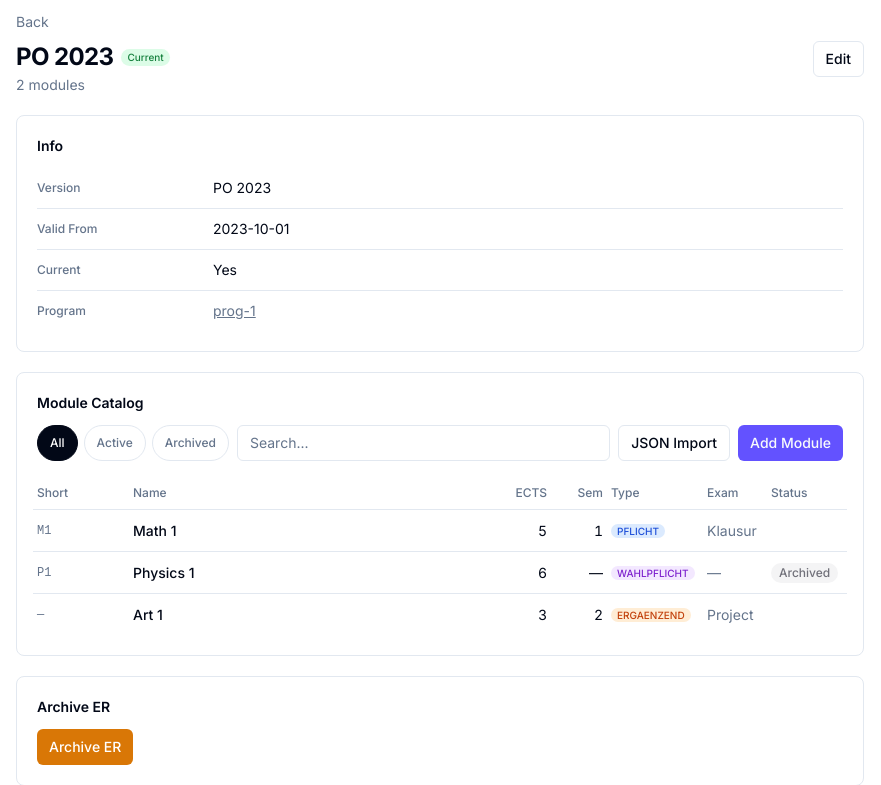
Test: AdminExamRegDetailPage › filters modules by status and search
The width and height of the screenshot is (881, 785).
Click the button "Active": click(115, 443) [84,425,146,461]
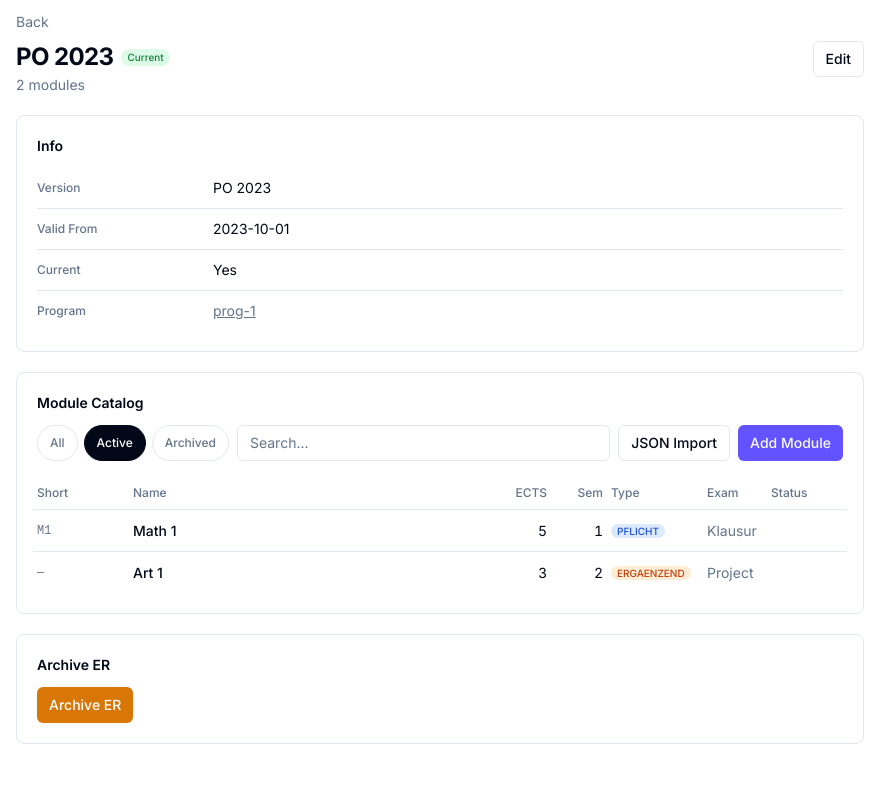
Expected: the text "Math 1" is shown, [129,510,495,552]
Result: the text "Physics 1" is gone
Click the button "Archived": click(190, 443) [152,425,229,461]
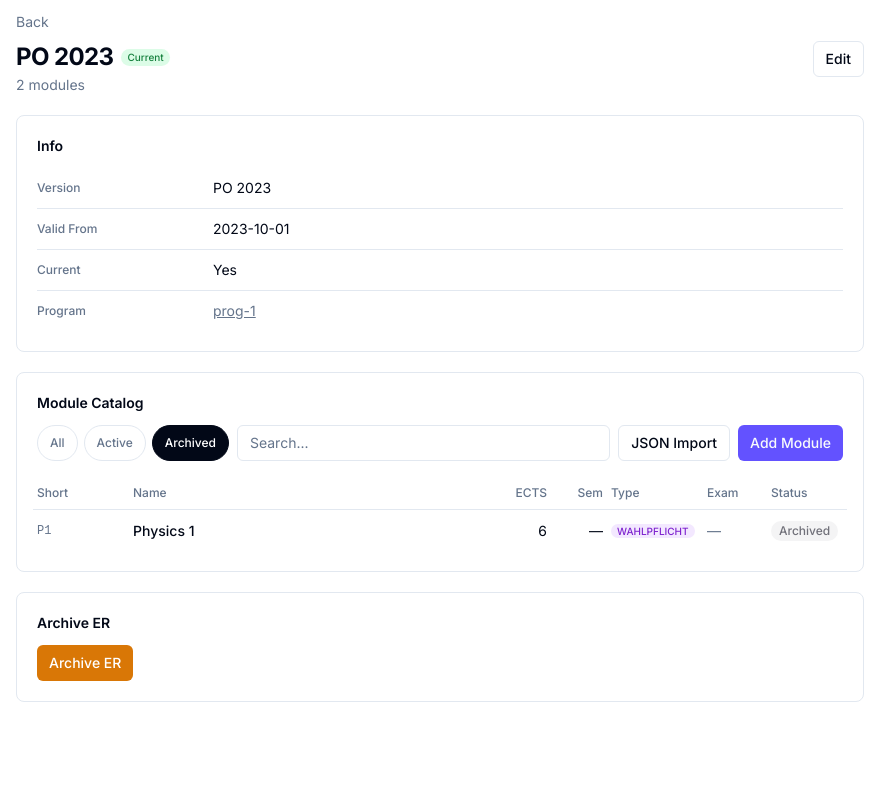
Result: the text "Math 1" is gone
Result: the text "Physics 1" is shown at [129,510,495,551]
Note: All & Search
Click the button "All": click(57, 443) [37,425,78,461]
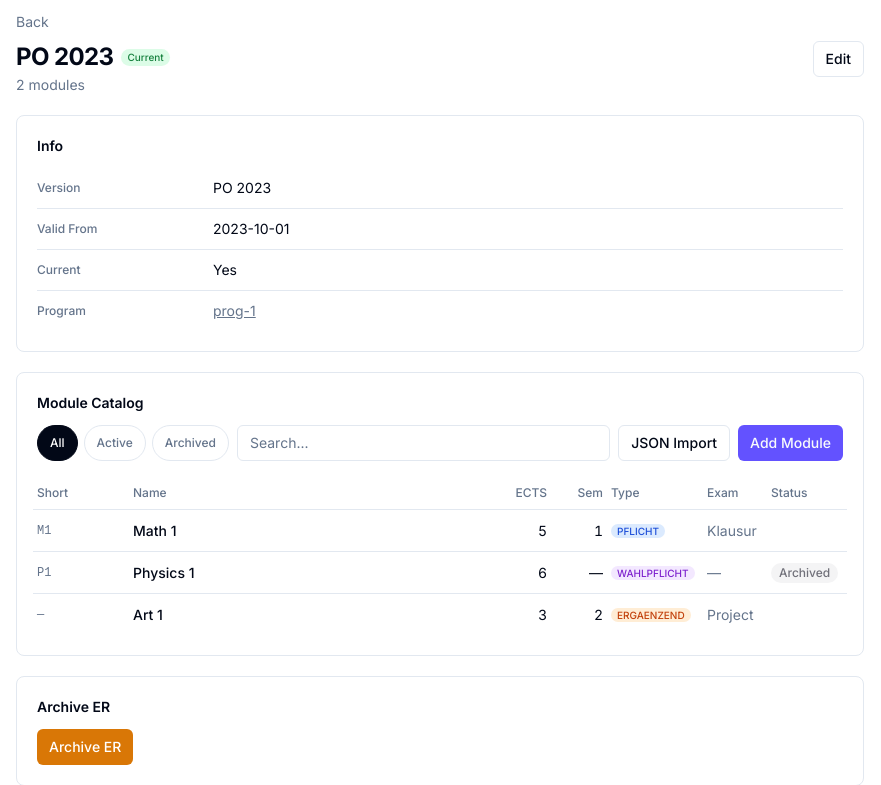
In the field with placeholder "Search...": (424, 443) [237,425,610,461], type "Math"
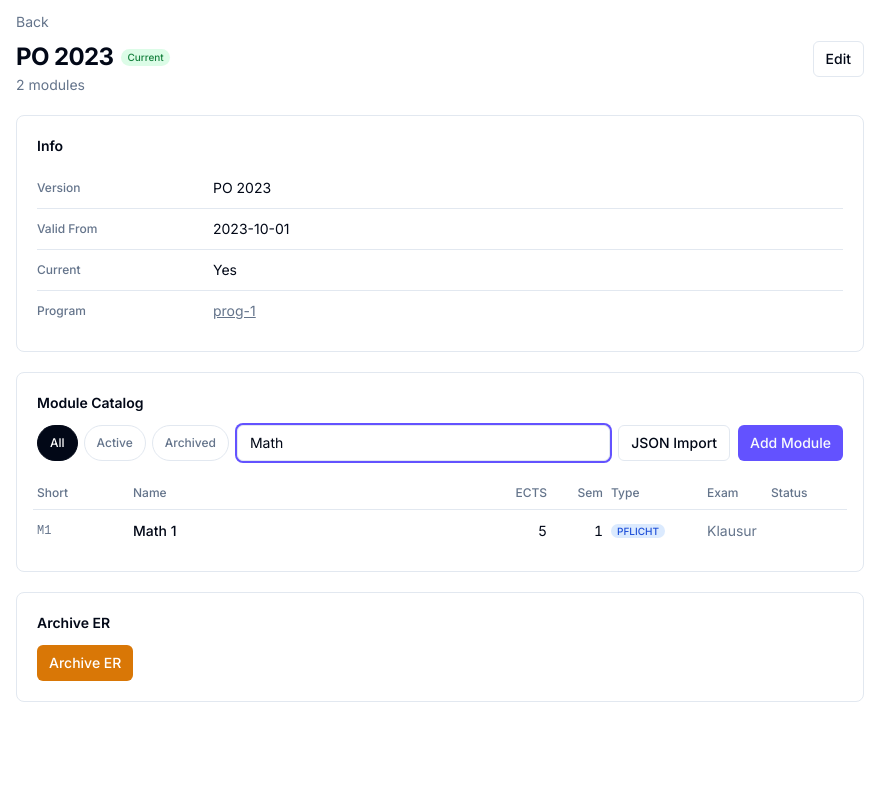
Result: the text "Math 1" is shown at [129,510,495,551]
Result: the text "Physics 1" is gone
